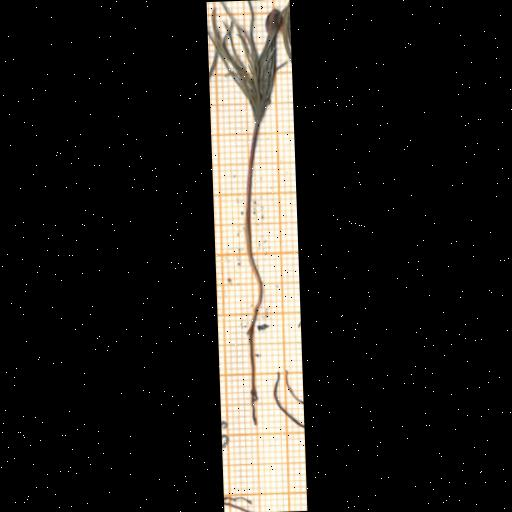flowerPinus: (207, 0, 279, 118)
stemPinus: (243, 121, 262, 328)
